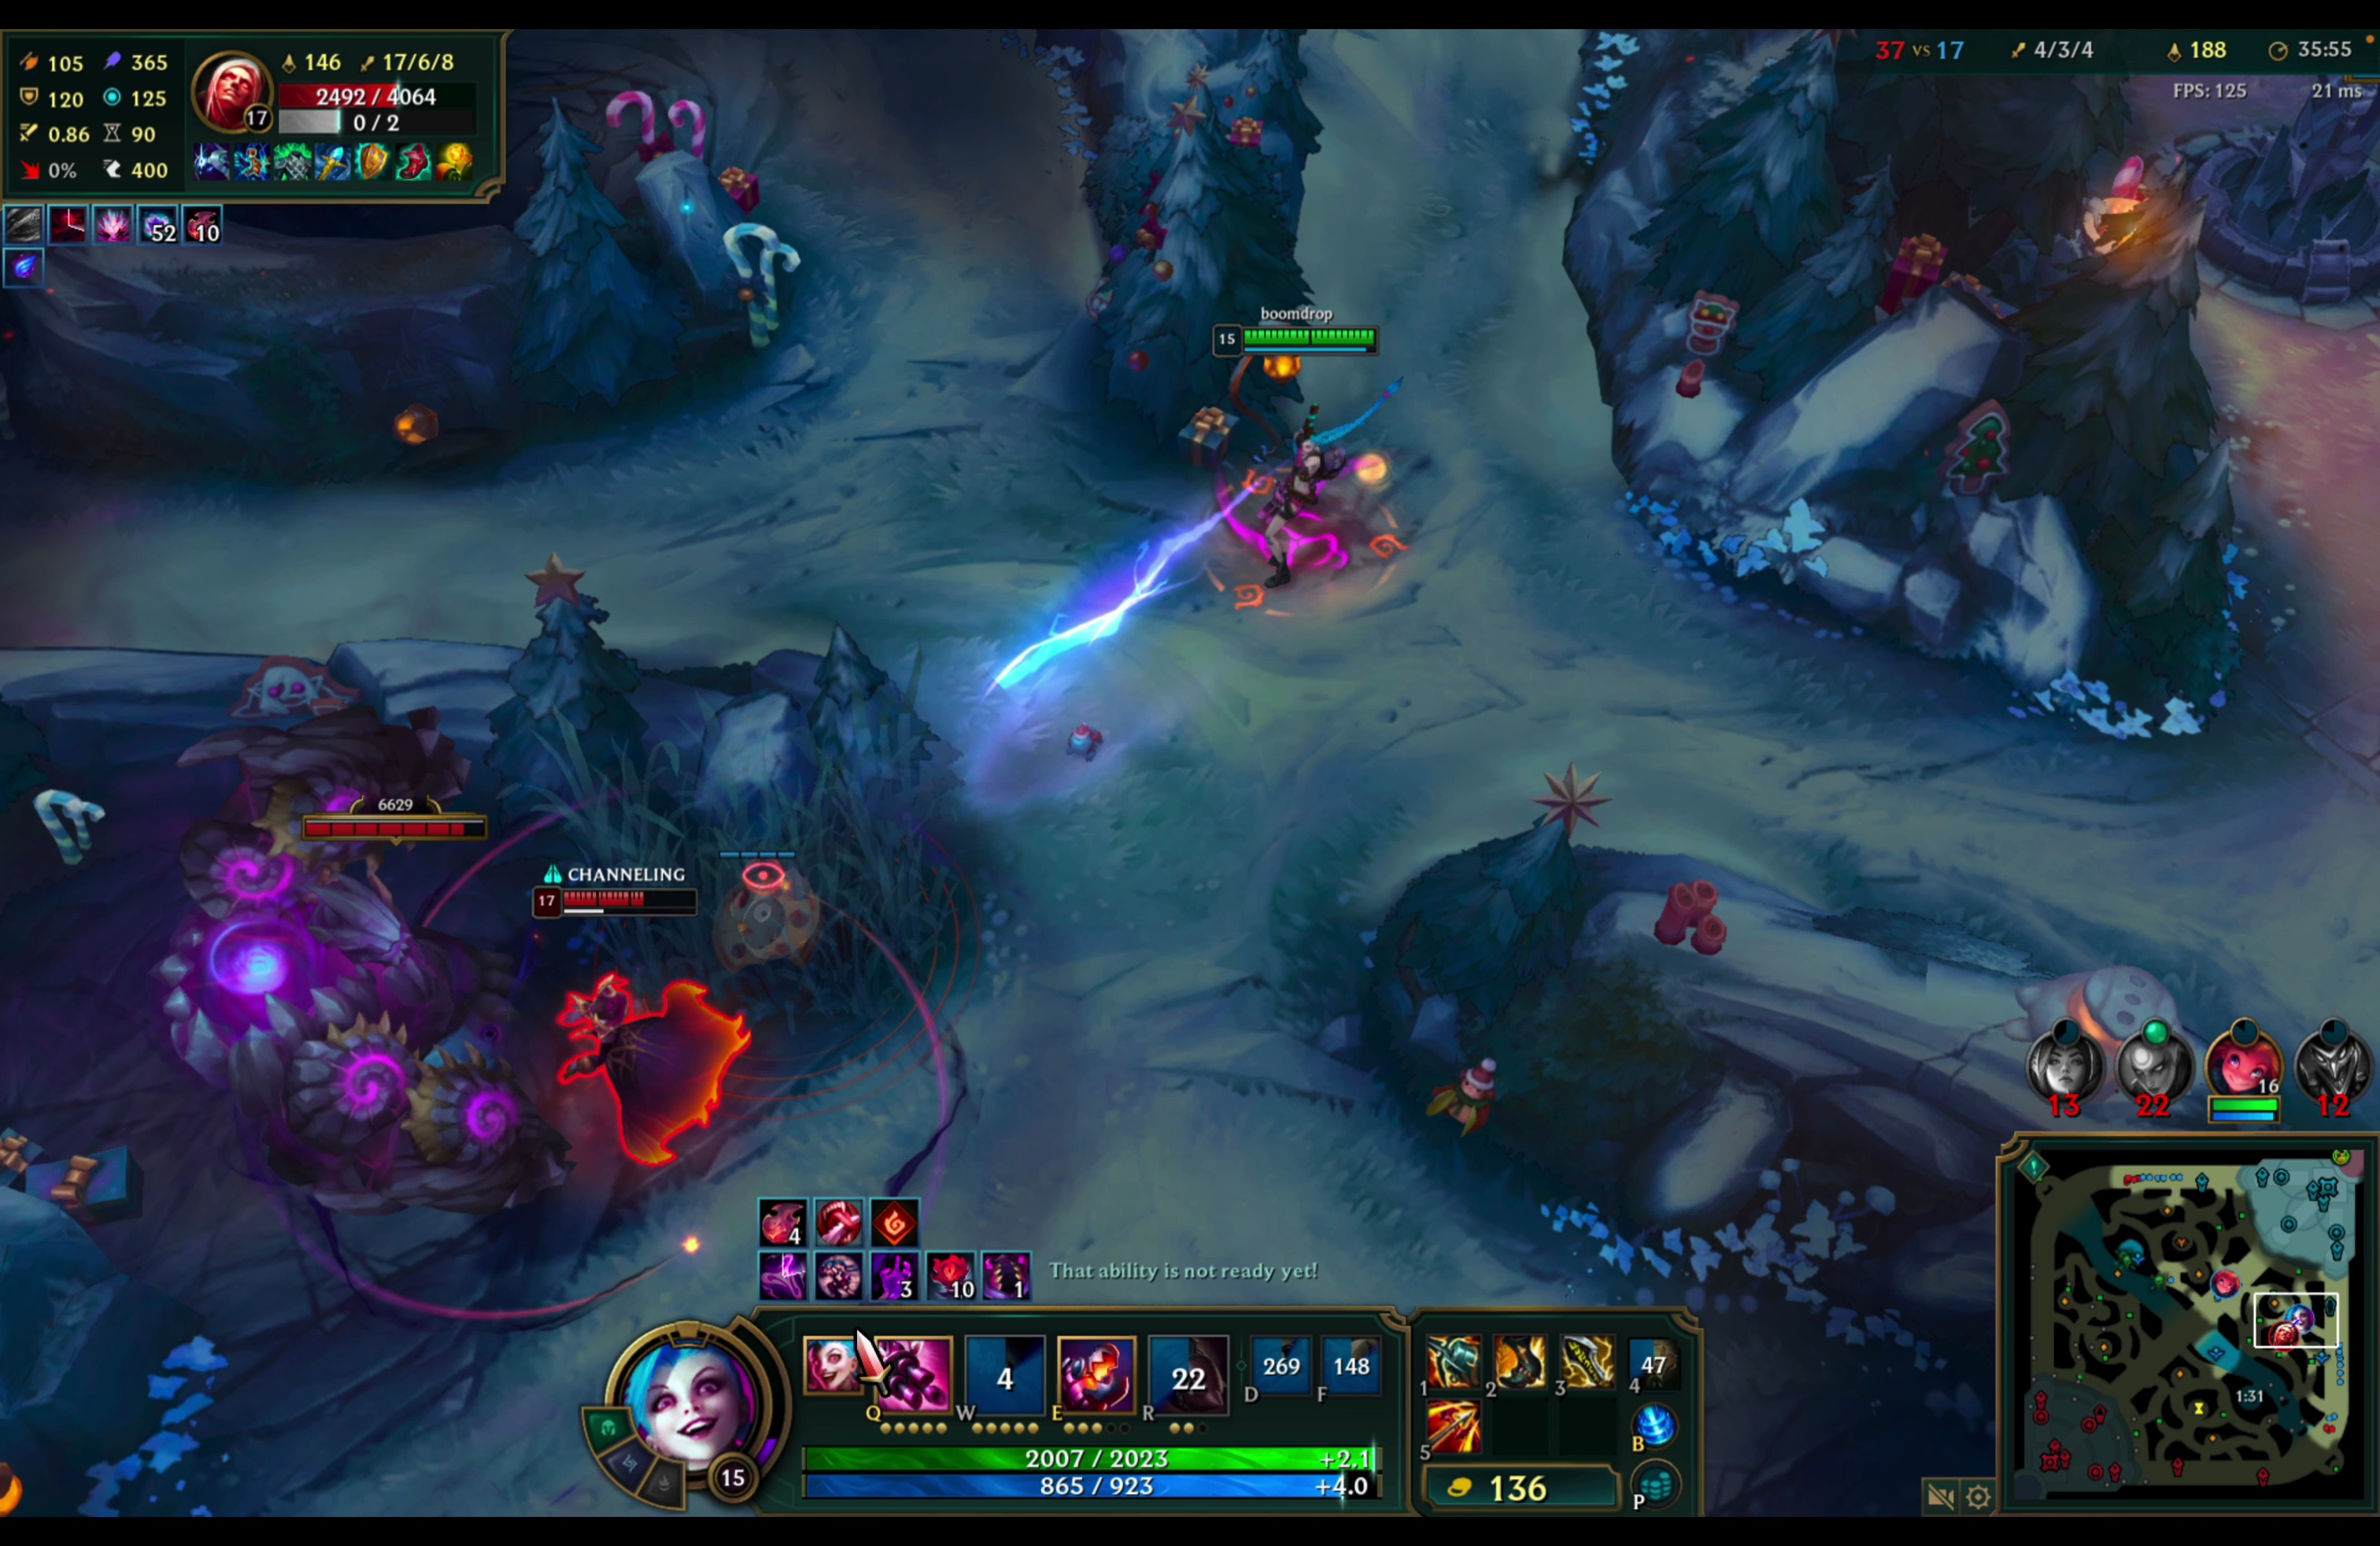JINX_W_PROJECTILE: (952, 293, 1433, 739)
